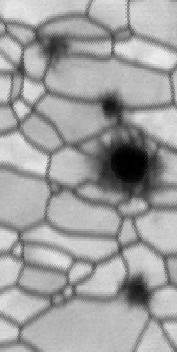good_void: (74, 119, 176, 200), (35, 26, 78, 66), (90, 84, 136, 121), (121, 270, 160, 310)
